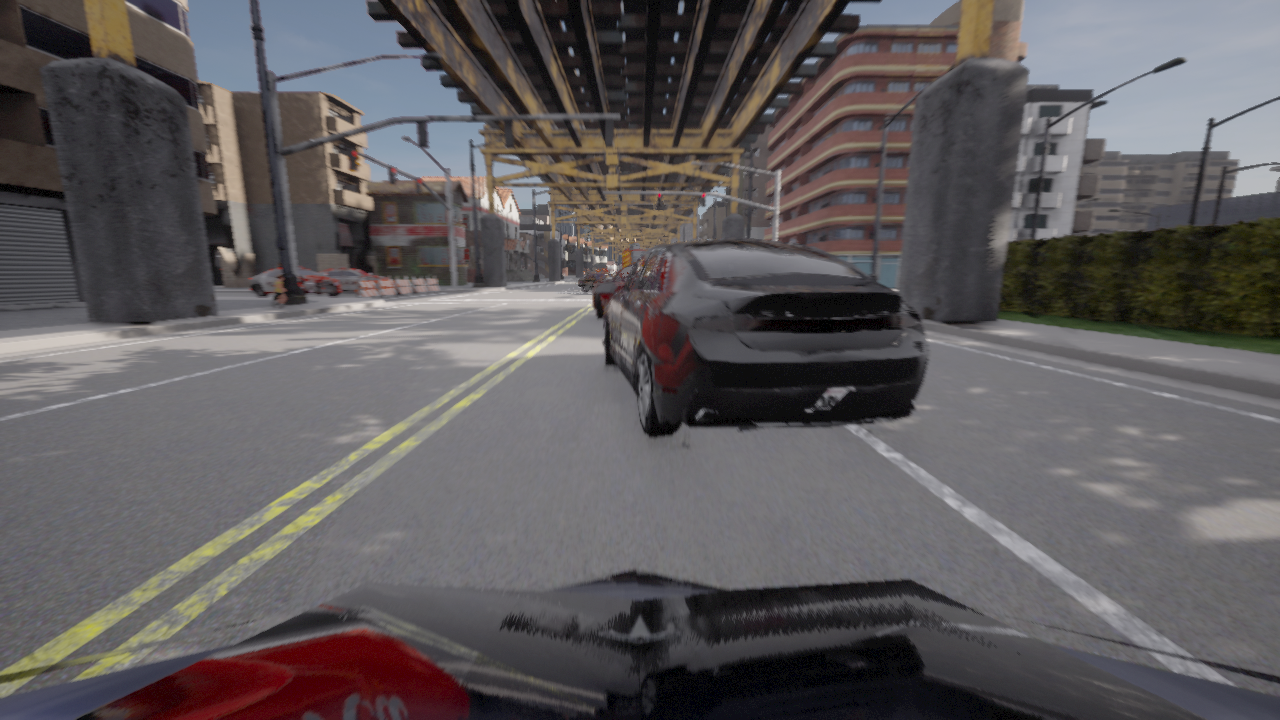cyclist: (0, 569, 1279, 719), (594, 238, 928, 436), (249, 266, 340, 296), (592, 262, 635, 318), (317, 267, 395, 290), (579, 272, 616, 292), (622, 242, 650, 267), (584, 265, 606, 278), (310, 273, 325, 291)
pedestrian: (272, 275, 285, 306), (276, 262, 280, 267)
